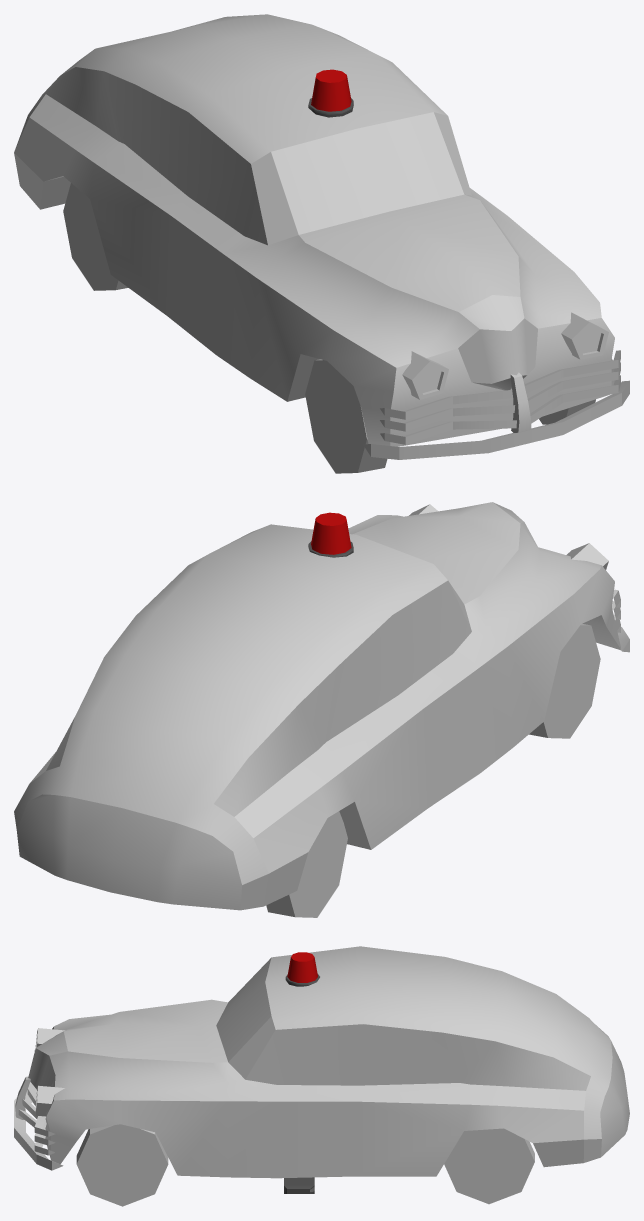
The model's file is PoliceCar.fbx.
The picture shows the model from 3 angles, top to bottom: view 1: azimuth 30°, elevation 25°; view 2: azimuth 150°, elevation 25°; view 3: azimuth 270°, elevation 25°; orthographic projection. The views are drawn at different scales.
Parts seen in each view (by area): view 1: CityCar01, pCylinder2; view 2: CityCar01, pCylinder2; view 3: CityCar01, pCylinder2, pCube1.
Part boxes in pixels (left/top/right/bottom): CityCar01: left=14, top=14, right=629, bottom=473; pCylinder2: left=311, top=69, right=351, bottom=111; CityCar01: left=14, top=502, right=629, bottom=917; pCylinder2: left=311, top=512, right=351, bottom=554; CityCar01: left=14, top=946, right=629, bottom=1206; pCylinder2: left=287, top=952, right=317, bottom=982; pCube1: left=284, top=1177, right=314, bottom=1193.
Bounding box in the file's own units: 849 × 880 × 2307.
